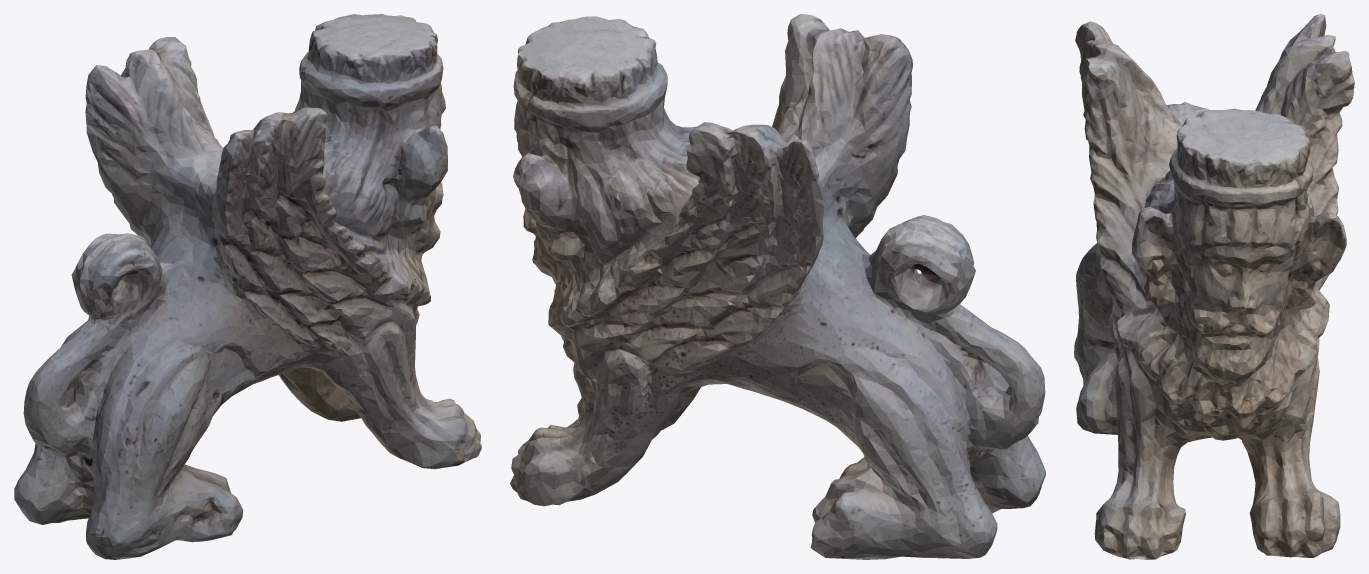
Rendered from lamassu.glb.
The picture shows the model from 3 angles, left to right: view 1: azimuth 30°, elevation 25°; view 2: azimuth 150°, elevation 25°; view 3: azimuth 270°, elevation 25°; orthographic projection. The views are drawn at different scales.
Bounding box in the file's own units: 0.6387 × 0.5551 × 0.3307.
1 material, 1 textured.
